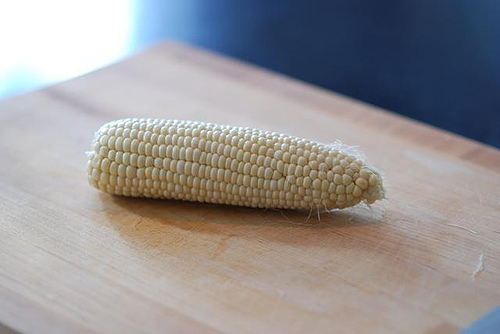corn: (84, 114, 385, 212)
